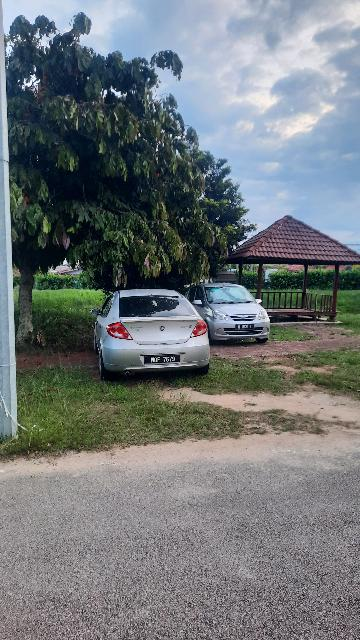License_Plate: (146, 353, 185, 365), (237, 323, 259, 333)
car: (87, 287, 213, 382), (188, 282, 275, 346)
